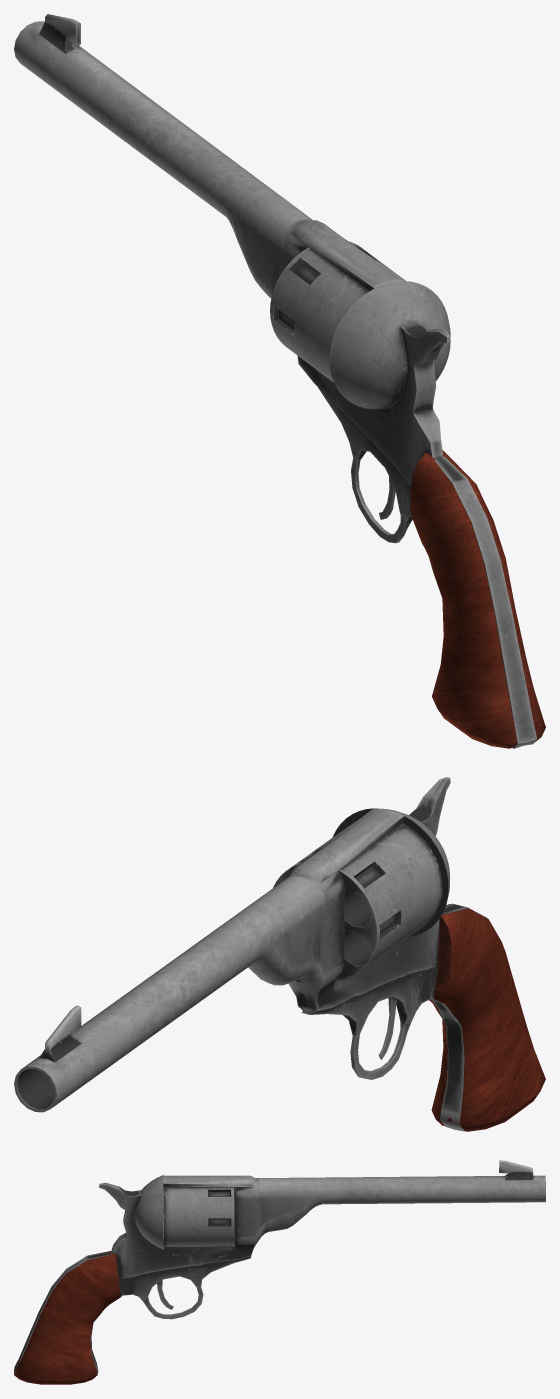
The model's file is GUN.obj.
3 views of the same model, one above another, from view 1: azimuth 30°, elevation 25°; view 2: azimuth 150°, elevation 25°; view 3: azimuth 270°, elevation 25° (orthographic). The views are drawn at different scales.
Bounding box in the file's own units: 0.6379 × 2.03 × 4.53.
